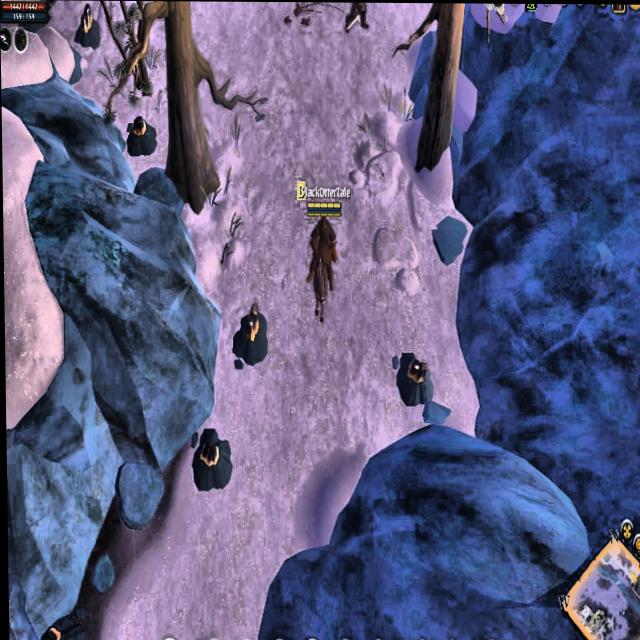copperore: (190, 422, 231, 487), (230, 302, 268, 363), (395, 350, 431, 403), (127, 110, 156, 156), (29, 618, 82, 640), (75, 0, 99, 47)
